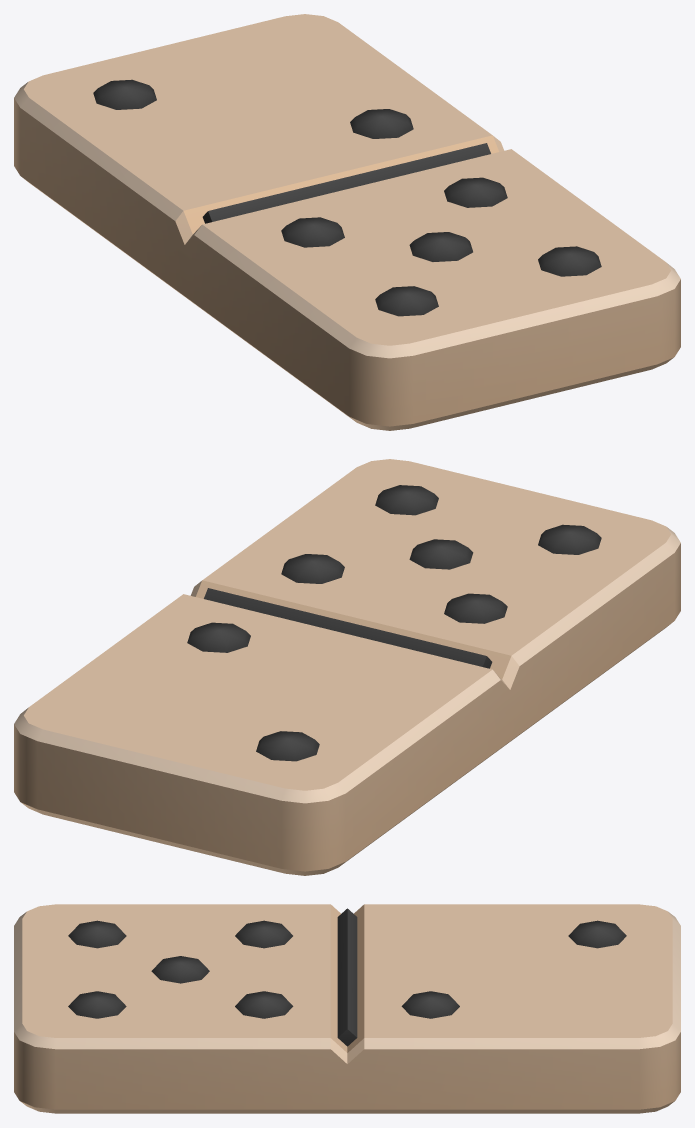
The model's file is domino_tile_2-5.obj.
3 renders of one model, top to bottom at view 1: azimuth 30°, elevation 25°; view 2: azimuth 150°, elevation 25°; view 3: azimuth 270°, elevation 25°, orthographic. The views are drawn at different scales.
Visible parts, largest first — view 1: domino_tile_2-5; view 2: domino_tile_2-5; view 3: domino_tile_2-5.
Part boxes in pixels (left/top/right/bottom): domino_tile_2-5: left=14, top=14, right=680, bottom=430; domino_tile_2-5: left=14, top=459, right=680, bottom=875; domino_tile_2-5: left=14, top=904, right=680, bottom=1113.
Size of the model in its own units: 1 by 0.2767 by 2.
1 material, 1 textured.
